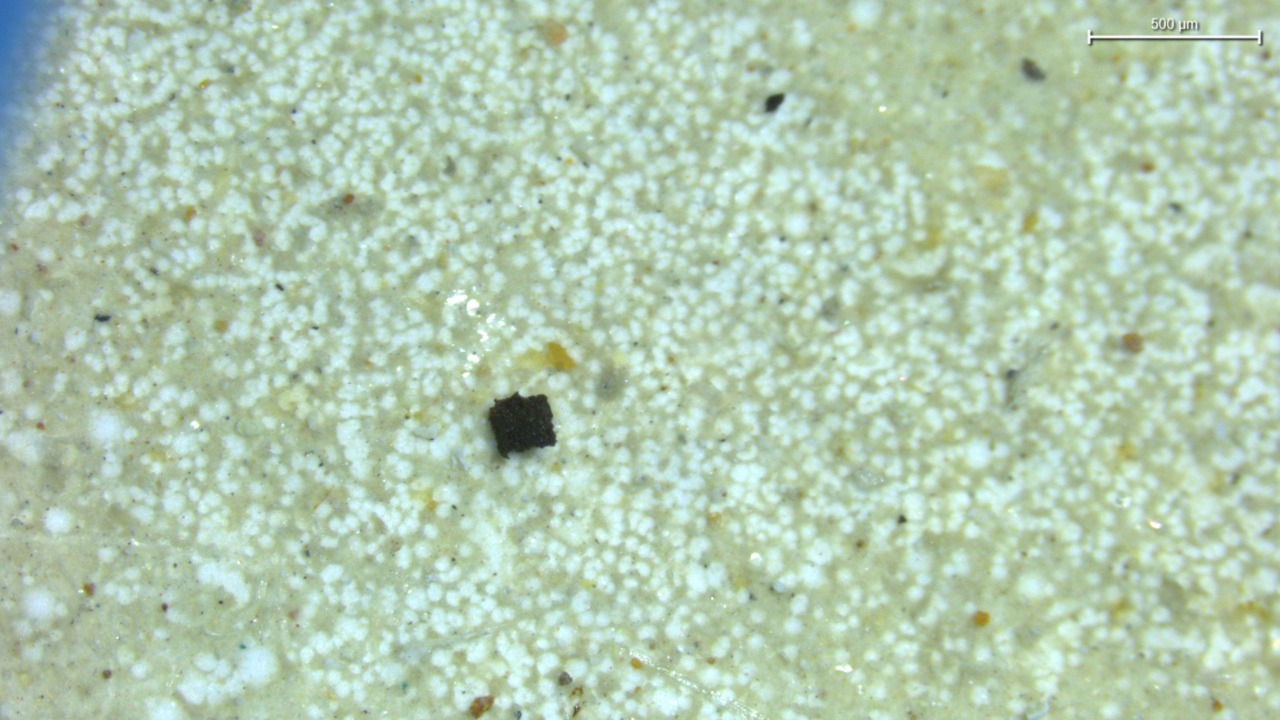microplastic_fragment: (488, 393, 556, 457)
